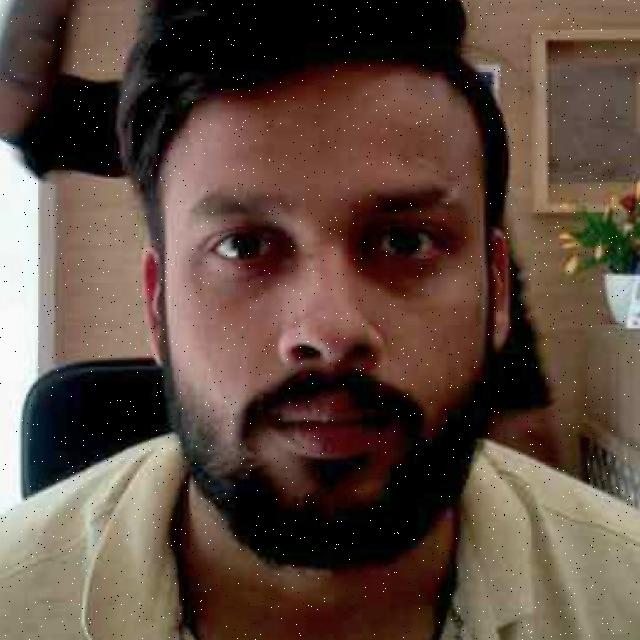puffy_eyes: (350, 240, 431, 295), (209, 251, 298, 294)
